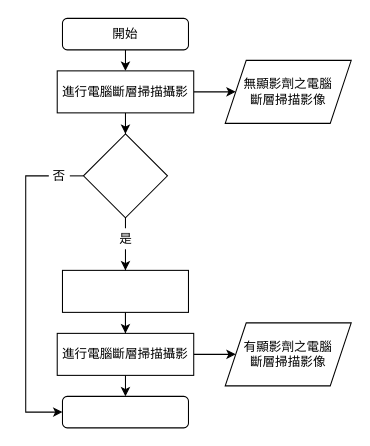
Image size: 370x446. Some labels were removed from this diagram. Here are the shapes that lost their labels. From the top down, the centre of each, then its label:
At [124,175]: "受檢者是否適合注射顯影劑".
At [124,290]: "注射顯影劑".
At [124,411]: "結束".
